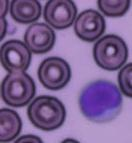M: (78, 78, 122, 122)
